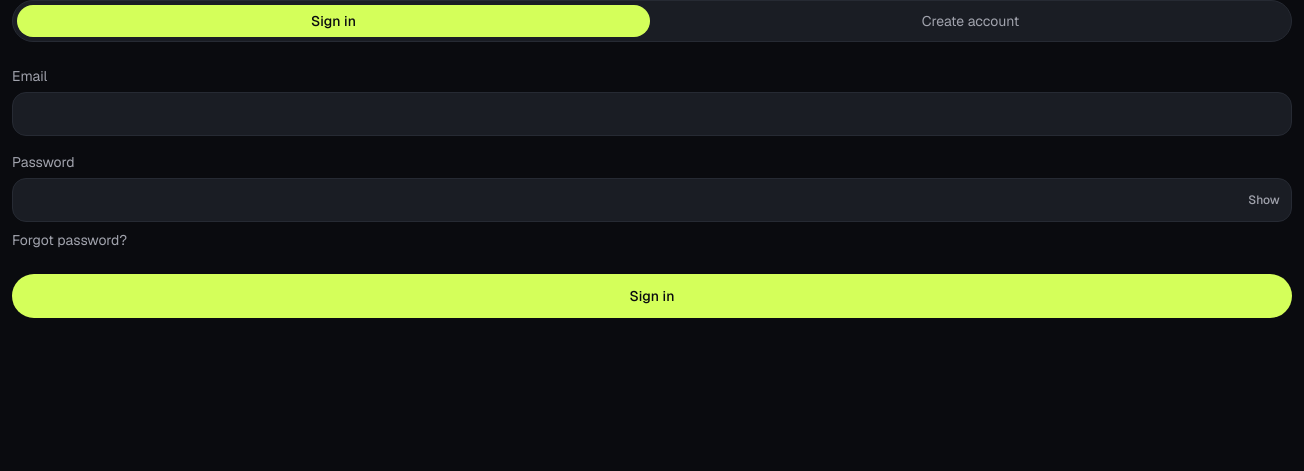
Scenario: SignInForm › clears a stale error message when switching modes
Click the tab "Create account".
click(970, 21)  # box top-left (654, 5), bottom-right (1287, 37)
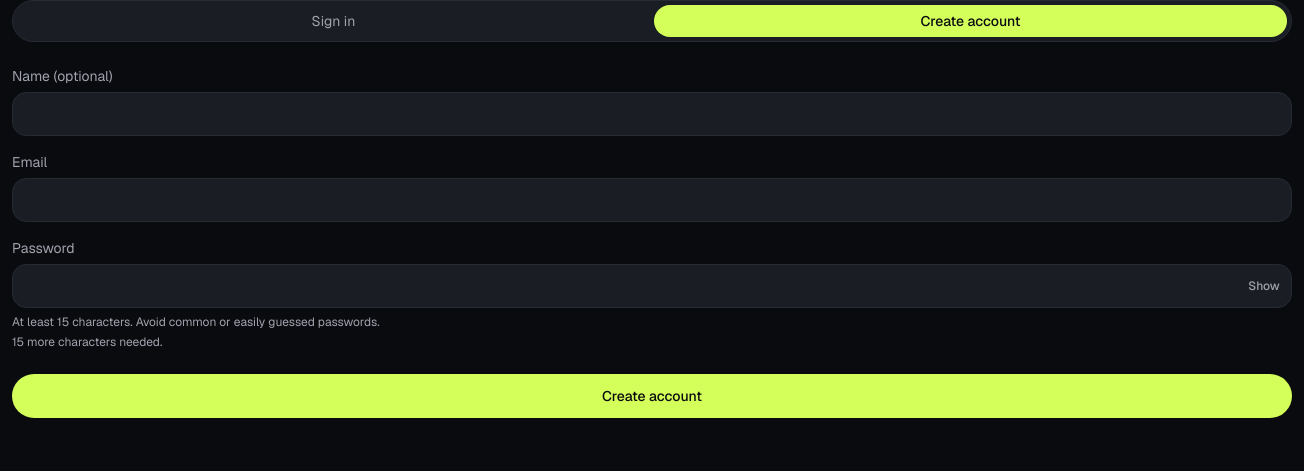
Type "user@example.com" into the field labelled "Email".
click(652, 200); type("user@example.com")  # box top-left (12, 178), bottom-right (1292, 222)
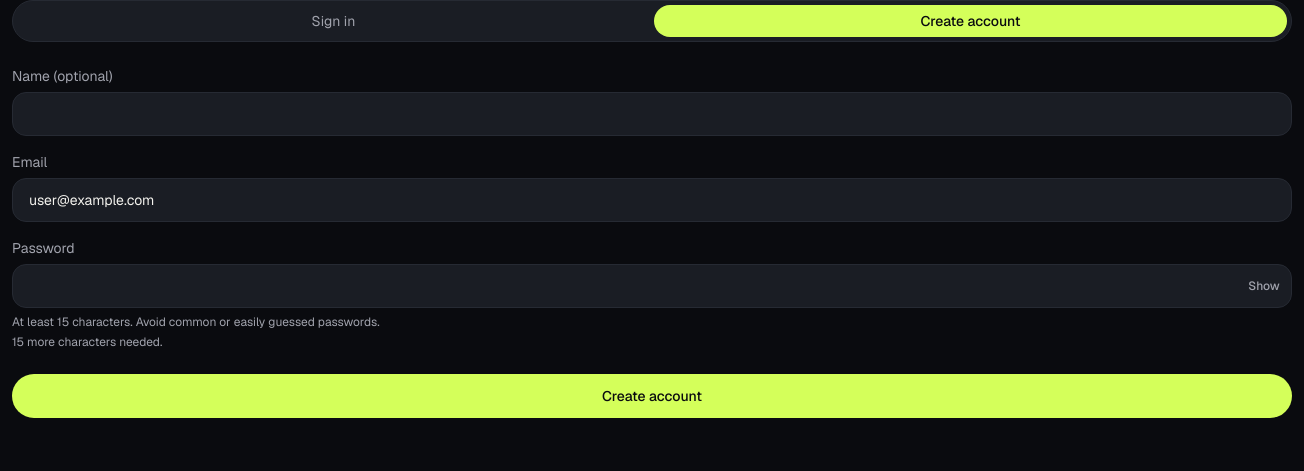
Type "short" into the password field labelled "Password".
click(652, 286); type("short")  # box top-left (12, 264), bottom-right (1292, 308)
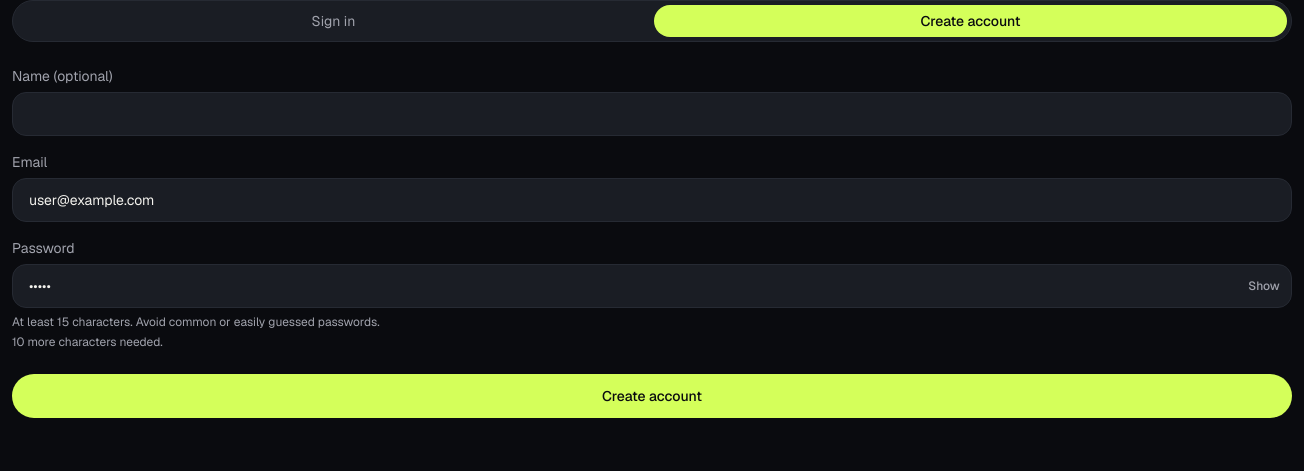
Submit the panel
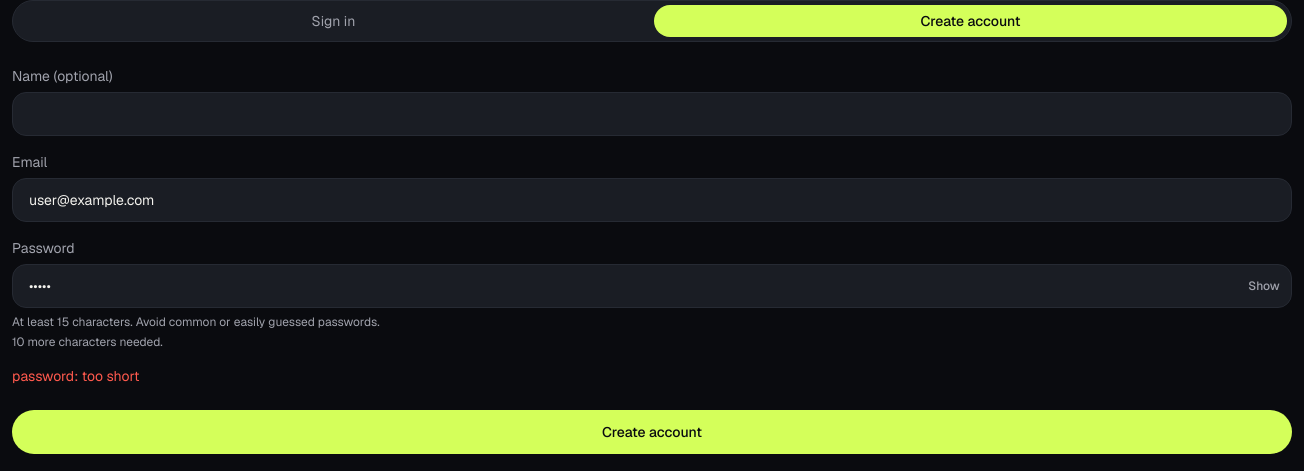
Result: the text "password: too short" is shown at top-left (12, 367), bottom-right (140, 385)
Click the tab "Sign in".
click(334, 21)  # box top-left (17, 5), bottom-right (650, 37)
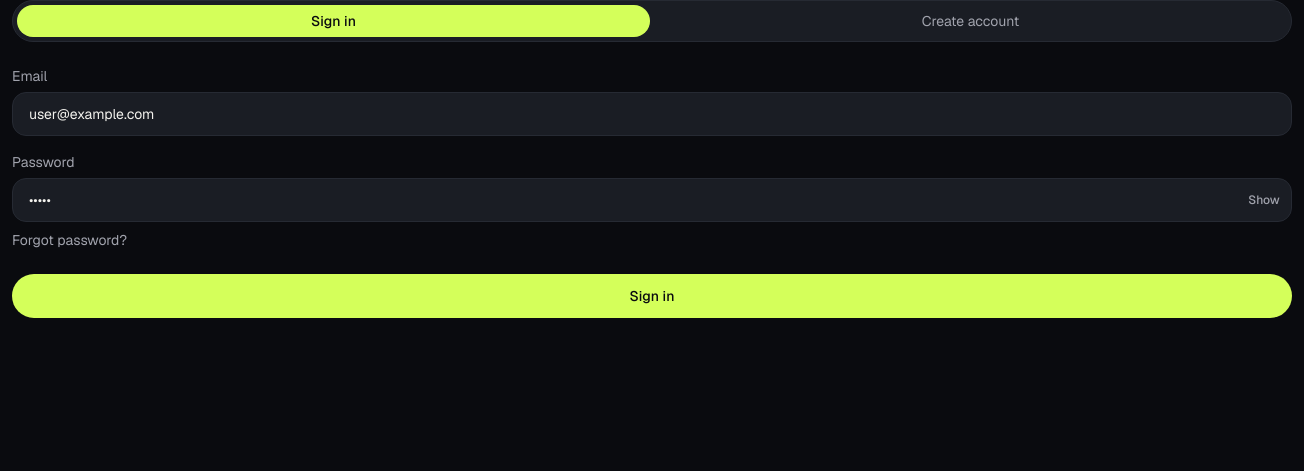
Result: the text "password: too short" is gone
